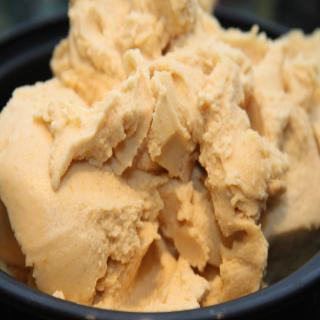Ice cream: (0, 0, 294, 300)
